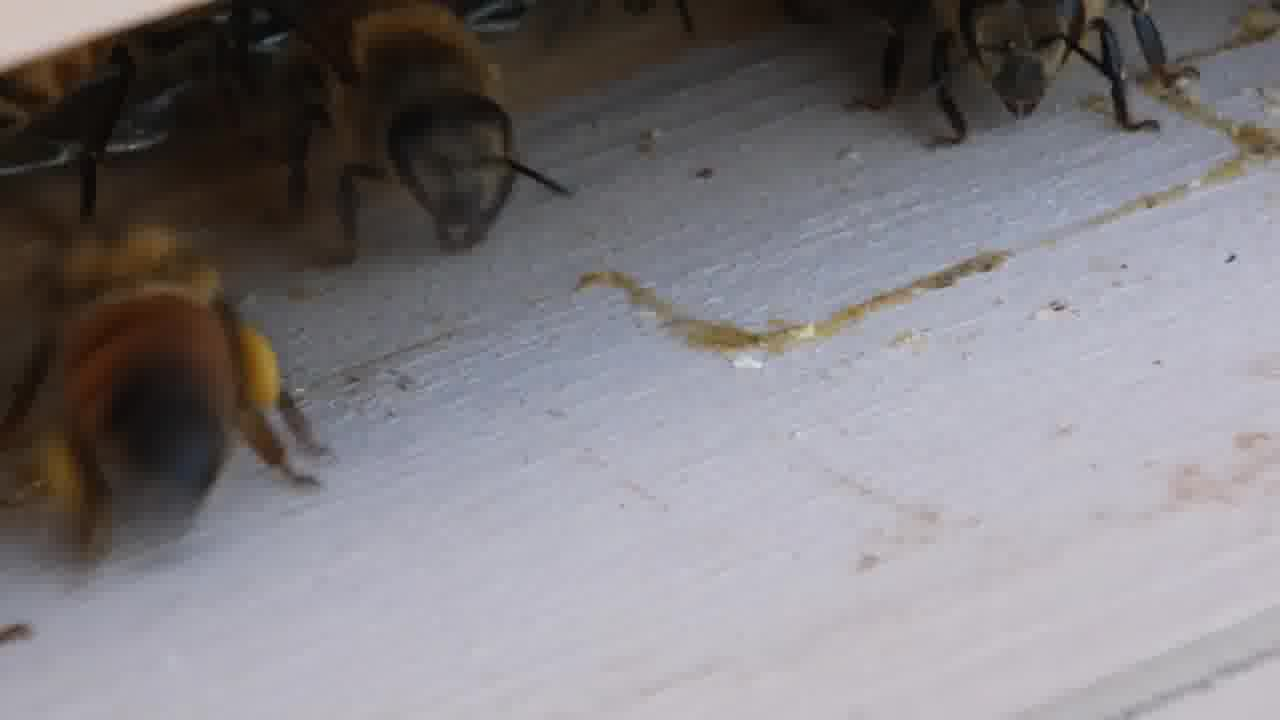pollen: (18, 217, 330, 584)
